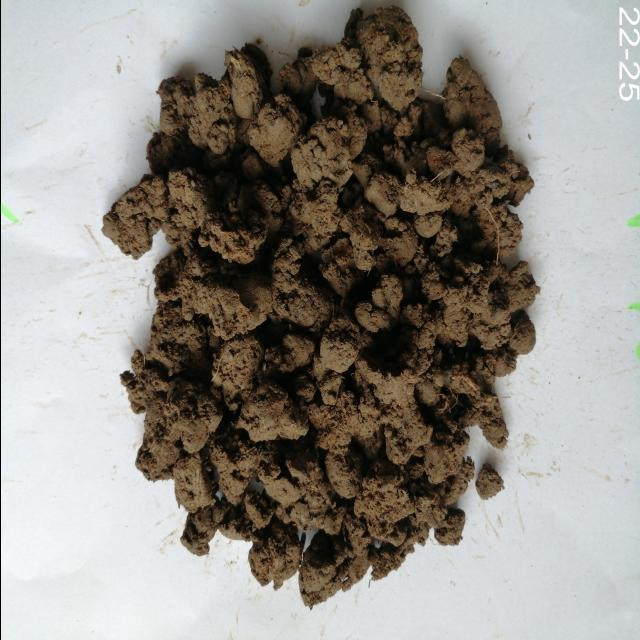soil: (178, 133, 481, 463)
